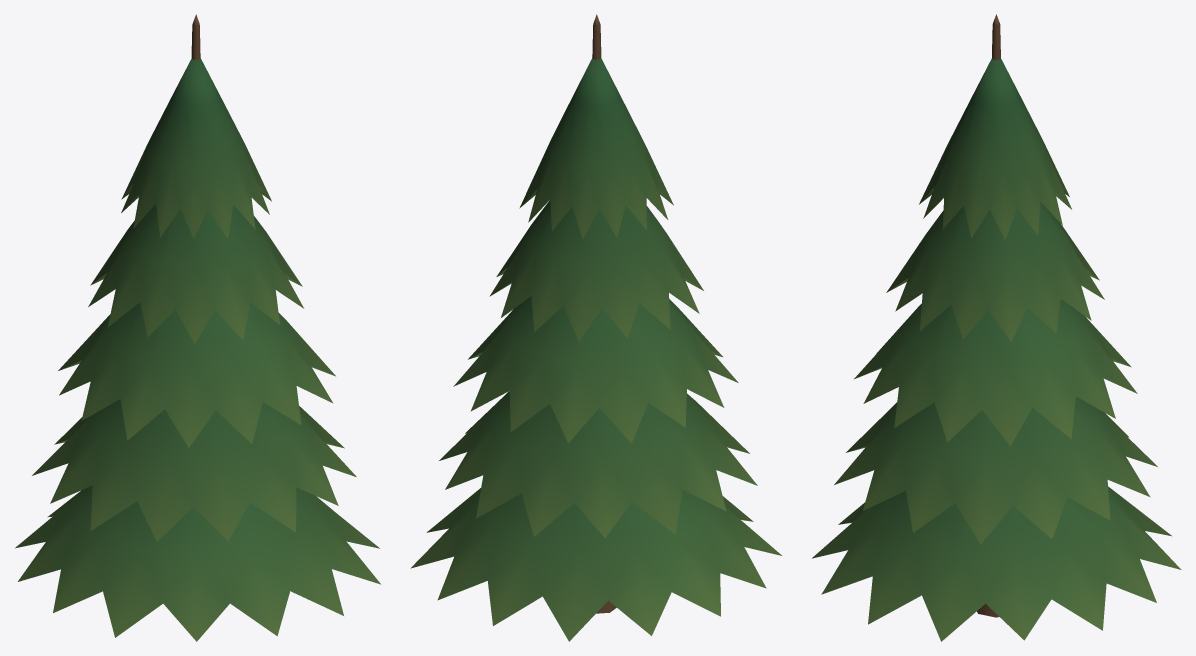
File: decor_conifere_automne_2.glb
3 renders of one model, left to right at view 1: azimuth 30°, elevation 25°; view 2: azimuth 150°, elevation 25°; view 3: azimuth 270°, elevation 25°, orthographic.
Visible parts, largest first — view 1: feuillage; view 2: feuillage; view 3: feuillage, tronc.
Boxes of the visible parts, box(x1,y1,x2,y2) form: feuillage: box(15, 58, 380, 641); feuillage: box(410, 58, 781, 641); feuillage: box(812, 58, 1181, 641); tronc: box(977, 14, 1000, 617).
Size of the model in its own units: 0.377 by 0.68 by 0.3847.
